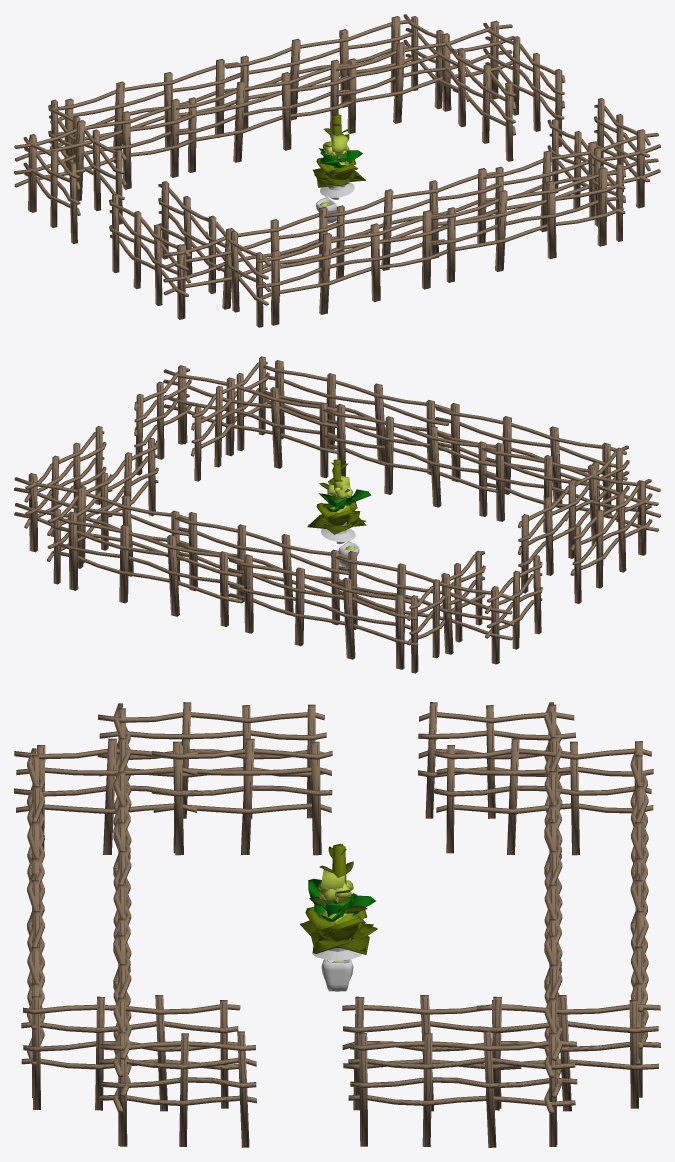
Rendered from VegetablePlot1.fbx.
3 renders of one model, top to bottom at view 1: azimuth 30°, elevation 25°; view 2: azimuth 150°, elevation 25°; view 3: azimuth 270°, elevation 25°, orthographic. The views are drawn at different scales.
Visible parts, largest first — view 1: Fence.002, Fence.005, Fence.016, Fence.017, Fence.015, Fence.019, Fence.004, Fence.003, Fence.011, Fence.018, Fence.013, Fence.020 (+10 smaller); view 2: Fence.004, Fence.003, Fence.019, Fence.011, Fence.015, Fence.002, Fence.016, Fence.005, Fence.018, Fence.013, Fence.017, Fence.008 (+10 smaller); view 3: Fence.020, Fence.001, Fence.008, Fence.006, Fence.012, Fence.007, Fence.009, Fence.013, Fence.014, Fence.010, Fence.017, Fence.011 (+11 smaller).
Boxes of the visible parts, x1=… form: Fence.002: x1=256, y1=210, x2=448, y2=325; Fence.005: x1=431, y1=167, x2=623, y2=282; Fence.016: x1=175, y1=59, x2=354, y2=172; Fence.017: x1=335, y1=20, x2=514, y2=133; Fence.015: x1=14, y1=98, x2=194, y2=211; Fence.019: x1=324, y1=168, x2=501, y2=278; Fence.004: x1=225, y1=16, x2=412, y2=128; Fence.003: x1=49, y1=58, x2=241, y2=171; Fence.011: x1=483, y1=129, x2=660, y2=240; Fence.018: x1=163, y1=206, x2=343, y2=319; Fence.013: x1=109, y1=194, x2=190, y2=319; Fence.020: x1=483, y1=22, x2=565, y2=146; Fence.004: x1=52, y1=511, x2=244, y2=626; Fence.003: x1=228, y1=554, x2=419, y2=669; Fence.019: x1=323, y1=404, x2=497, y2=516; Fence.011: x1=163, y1=365, x2=338, y2=478; Fence.015: x1=334, y1=551, x2=514, y2=664; Fence.002: x1=435, y1=403, x2=627, y2=518; Fence.016: x1=175, y1=512, x2=349, y2=625; Fence.005: x1=263, y1=360, x2=451, y2=474; Fence.018: x1=482, y1=442, x2=660, y2=555; Fence.013: x1=570, y1=479, x2=652, y2=603; Fence.017: x1=14, y1=473, x2=189, y2=585; Fence.008: x1=191, y1=356, x2=269, y2=481; Fence.020: x1=348, y1=1031, x2=577, y2=1147; Fence.001: x1=434, y1=738, x2=653, y2=855; Fence.008: x1=21, y1=995, x2=240, y2=1111; Fence.006: x1=151, y1=738, x2=332, y2=855; Fence.012: x1=99, y1=1031, x2=256, y2=1147; Fence.007: x1=477, y1=995, x2=660, y2=1111; Fence.009: x1=14, y1=738, x2=197, y2=855; Fence.013: x1=97, y1=702, x2=326, y2=818; Fence.014: x1=418, y1=702, x2=575, y2=818; Fence.010: x1=342, y1=995, x2=522, y2=1111; Fence.017: x1=544, y1=931, x2=562, y2=1146; Fence.011: x1=113, y1=930, x2=131, y2=1145.
Size of what is drawn, in the model's own units: 1126 by 287 by 1463.
